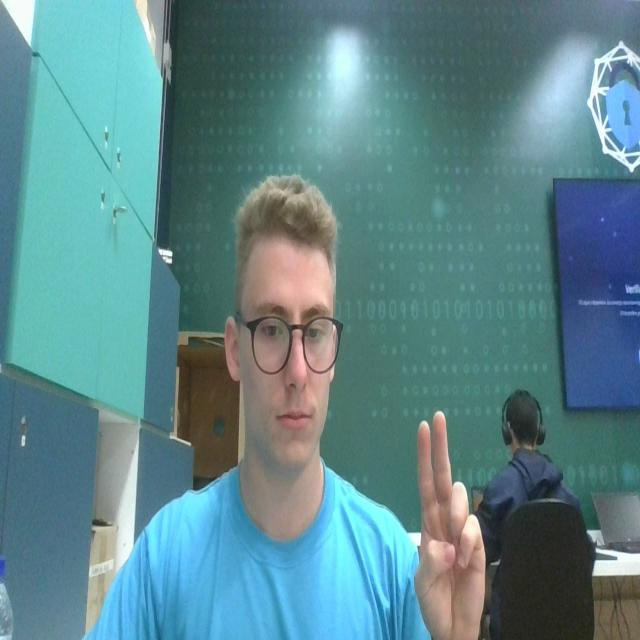U: (402, 409, 487, 635)
